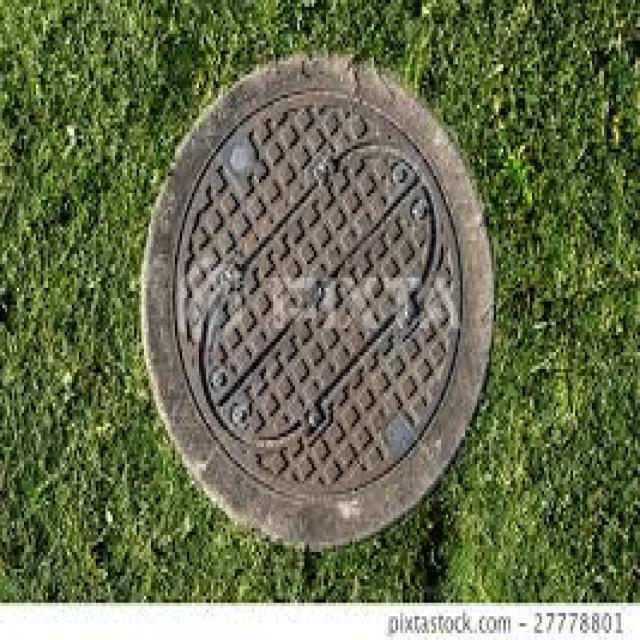manhole: (142, 56, 494, 548)
